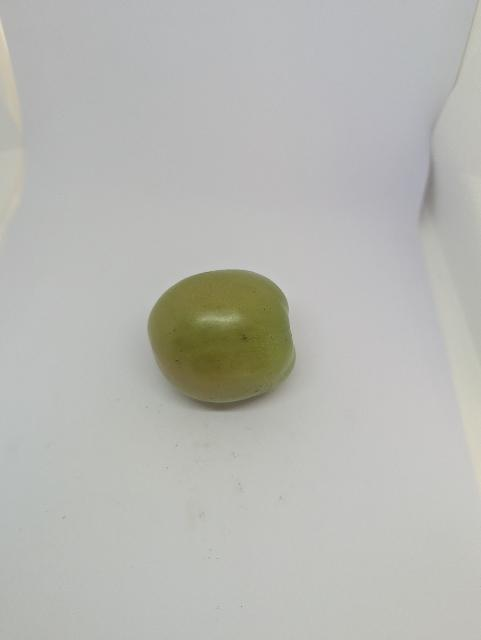green: (137, 248, 310, 420)
